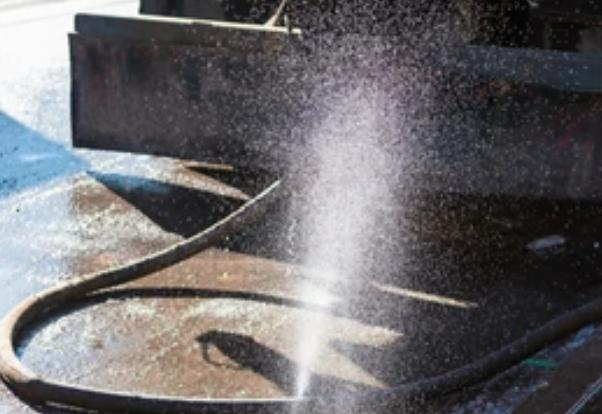pipe burst: (256, 10, 459, 405)
